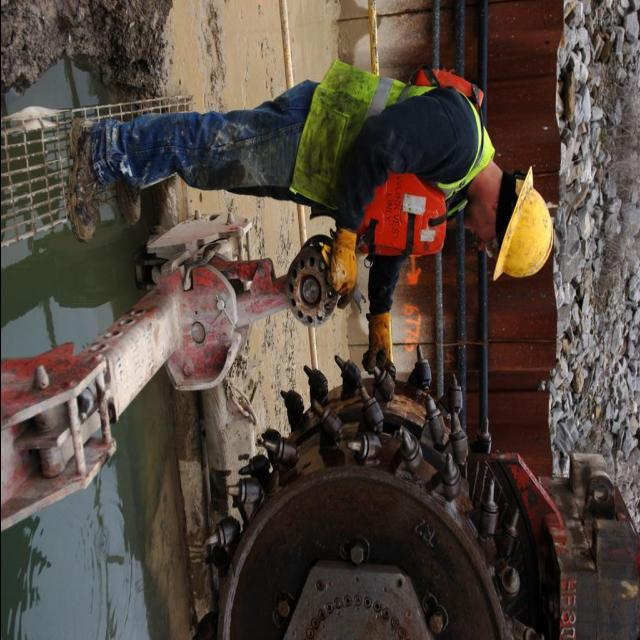helmet: (491, 162, 558, 292)
jacket: (284, 49, 486, 280)
